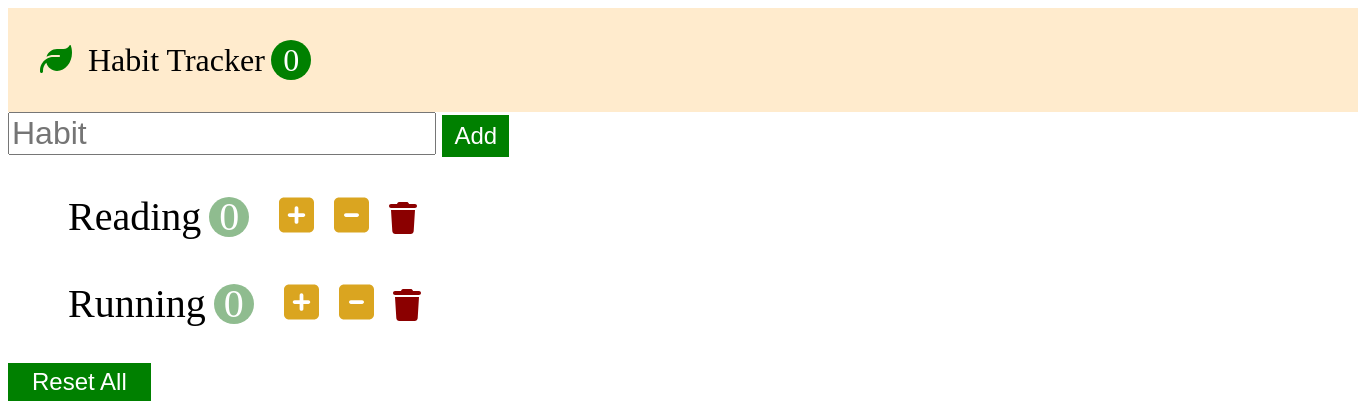
it: Habit Tracker › count 감소
What coordinates should you click on to do the following:
click the button titled "increase" in the row of "Reading"
I would click on:
 (297, 217)
Its box is left=273, top=193, right=320, bottom=240.
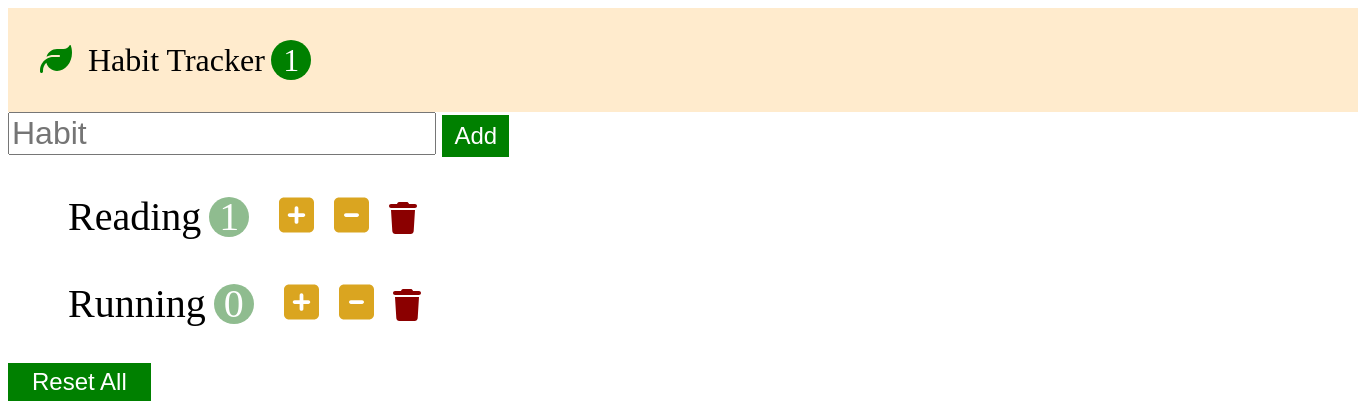
What coordinates should you click on to do the following:
click the button titled "decrease" in the row of "Reading"
I would click on:
 (352, 217)
Its box is left=328, top=193, right=375, bottom=240.
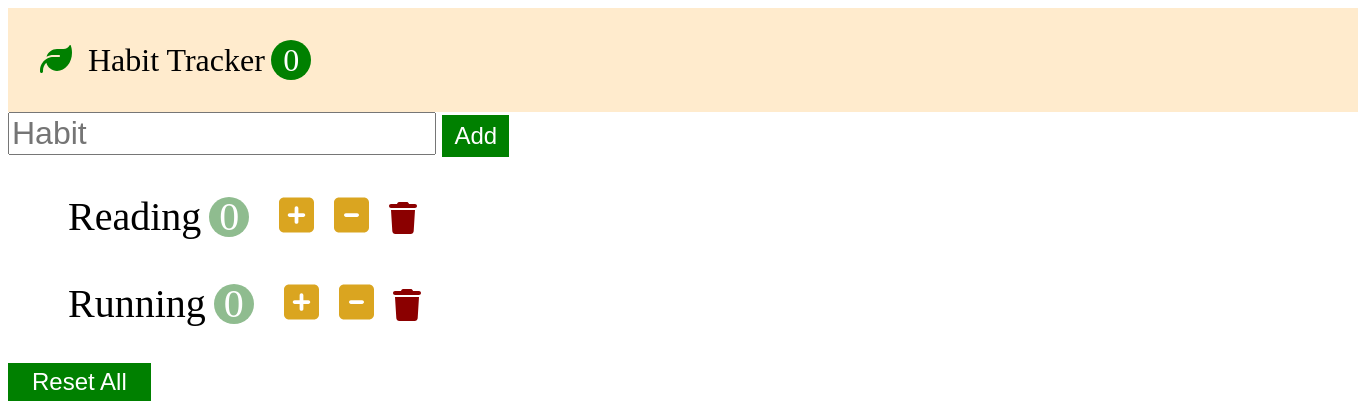
Now the text with test id "habit-count" next to "Reading" reads "0", box left=209, top=197, right=249, bottom=237
